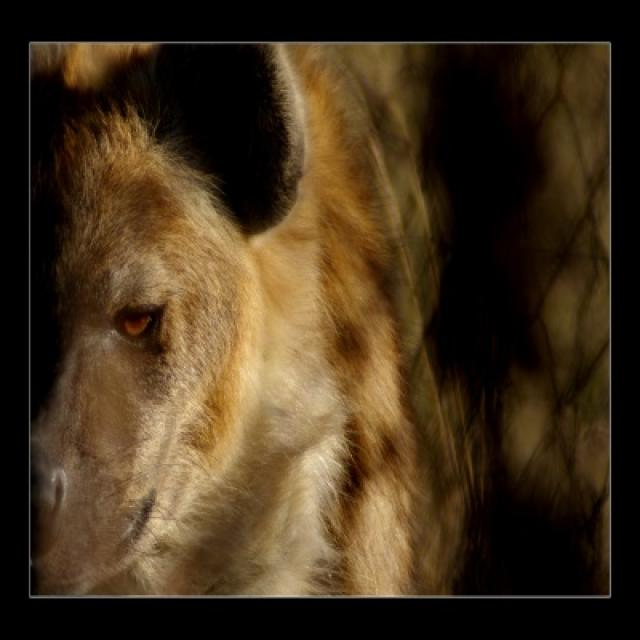hyena: (32, 42, 305, 593)
